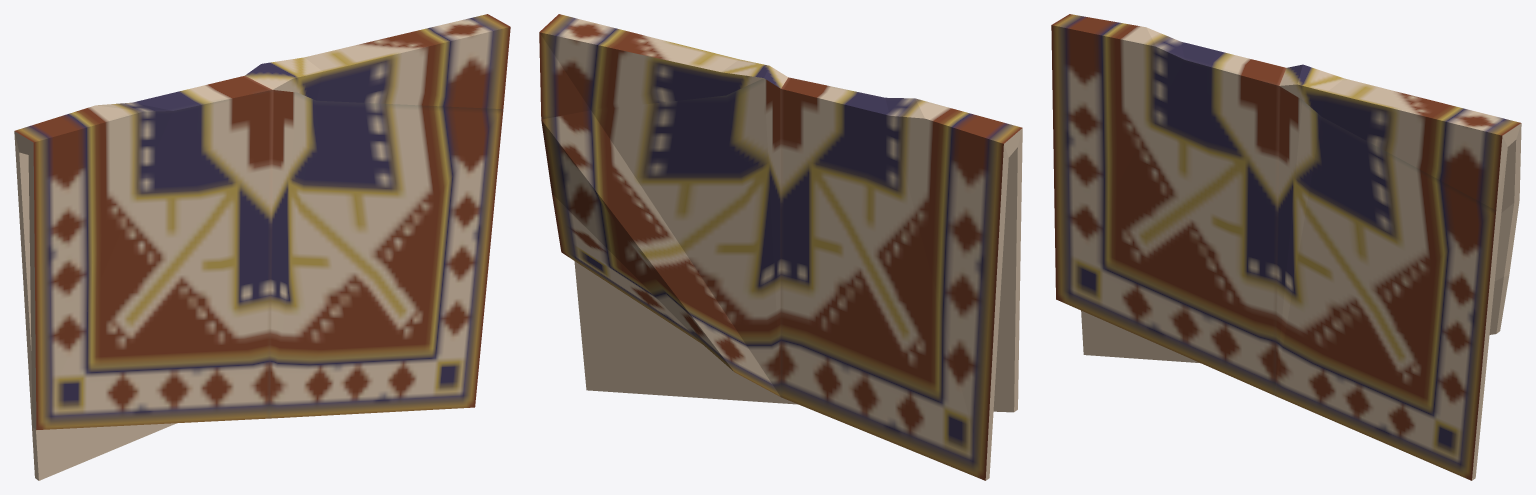
Rendered from SM_Prop_Rug_Hanging_04.glb.
3 views of the same model, side by side, from view 1: azimuth 30°, elevation 25°; view 2: azimuth 150°, elevation 25°; view 3: azimuth 330°, elevation 25° (orthographic). The views are drawn at different scales.
Parts seen in each view (by area): view 1: SM_Prop_Rug_Hanging_04; view 2: SM_Prop_Rug_Hanging_04; view 3: SM_Prop_Rug_Hanging_04.
Part boxes in pixels (bbox=[...]): SM_Prop_Rug_Hanging_04: bbox=[14, 14, 510, 480]; SM_Prop_Rug_Hanging_04: bbox=[539, 14, 1022, 480]; SM_Prop_Rug_Hanging_04: bbox=[1051, 14, 1521, 480].
Bounding box in the file's own units: 1.55 × 1.18 × 0.1431.
Materials: 1 (1 with a texture image).
